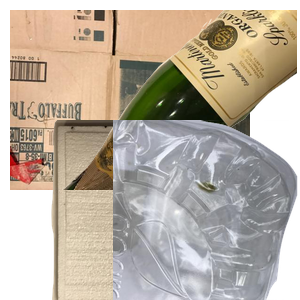cardboard: (10, 10, 250, 190)
glass: (60, 10, 300, 190)
plastic: (113, 120, 300, 300)
trash: (49, 120, 269, 300)
